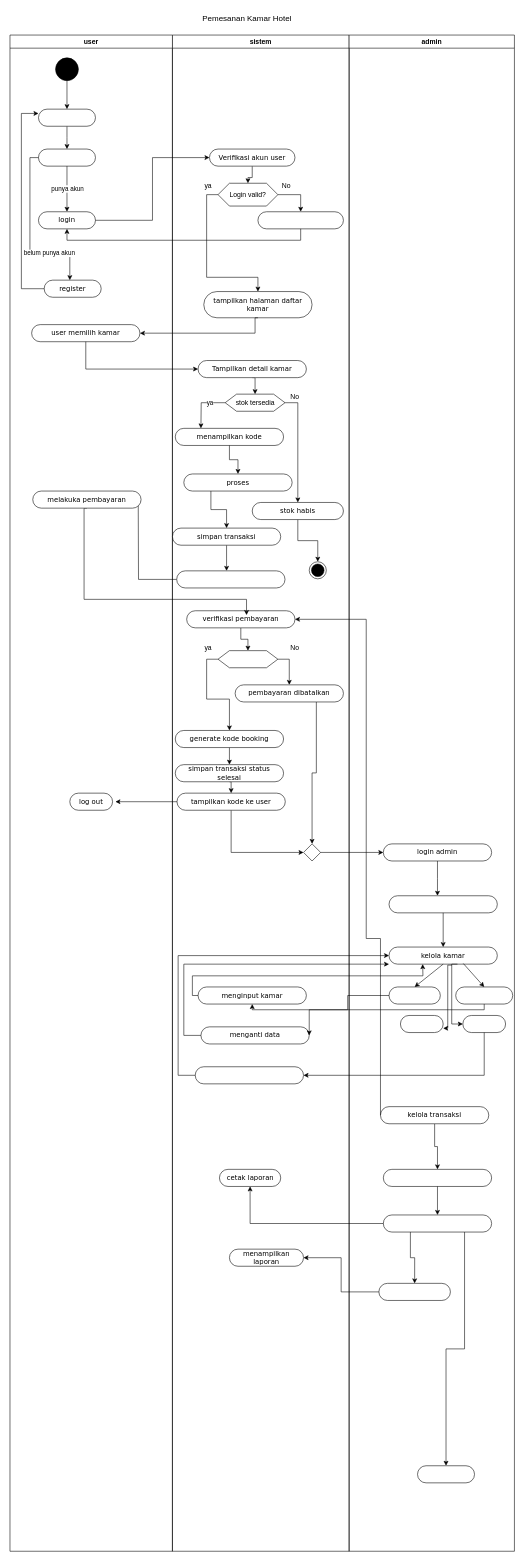
Image size: 524x1561. Some labels were removed from this diagram. The centre of each missing label's shape, as x and y in pixels:
dashboard admin: point 442,904
edit kamar: point 484,995
halaman utama: point 66,117
hapus kamar: point 484,1024
input kamar: point 414,995
kelola user: point 437,1177
laporan: point 437,1223
login gagal: point 300,220
Logout: point 446,1474
mencari berdasarkan bulan: point 414,1291
mencari kamar: point 421,1024
menghapus kamar: point 249,1075
pembayaran user: point 230,579
pembayran valid: point 247,659
pesan kamar: point 66,157
